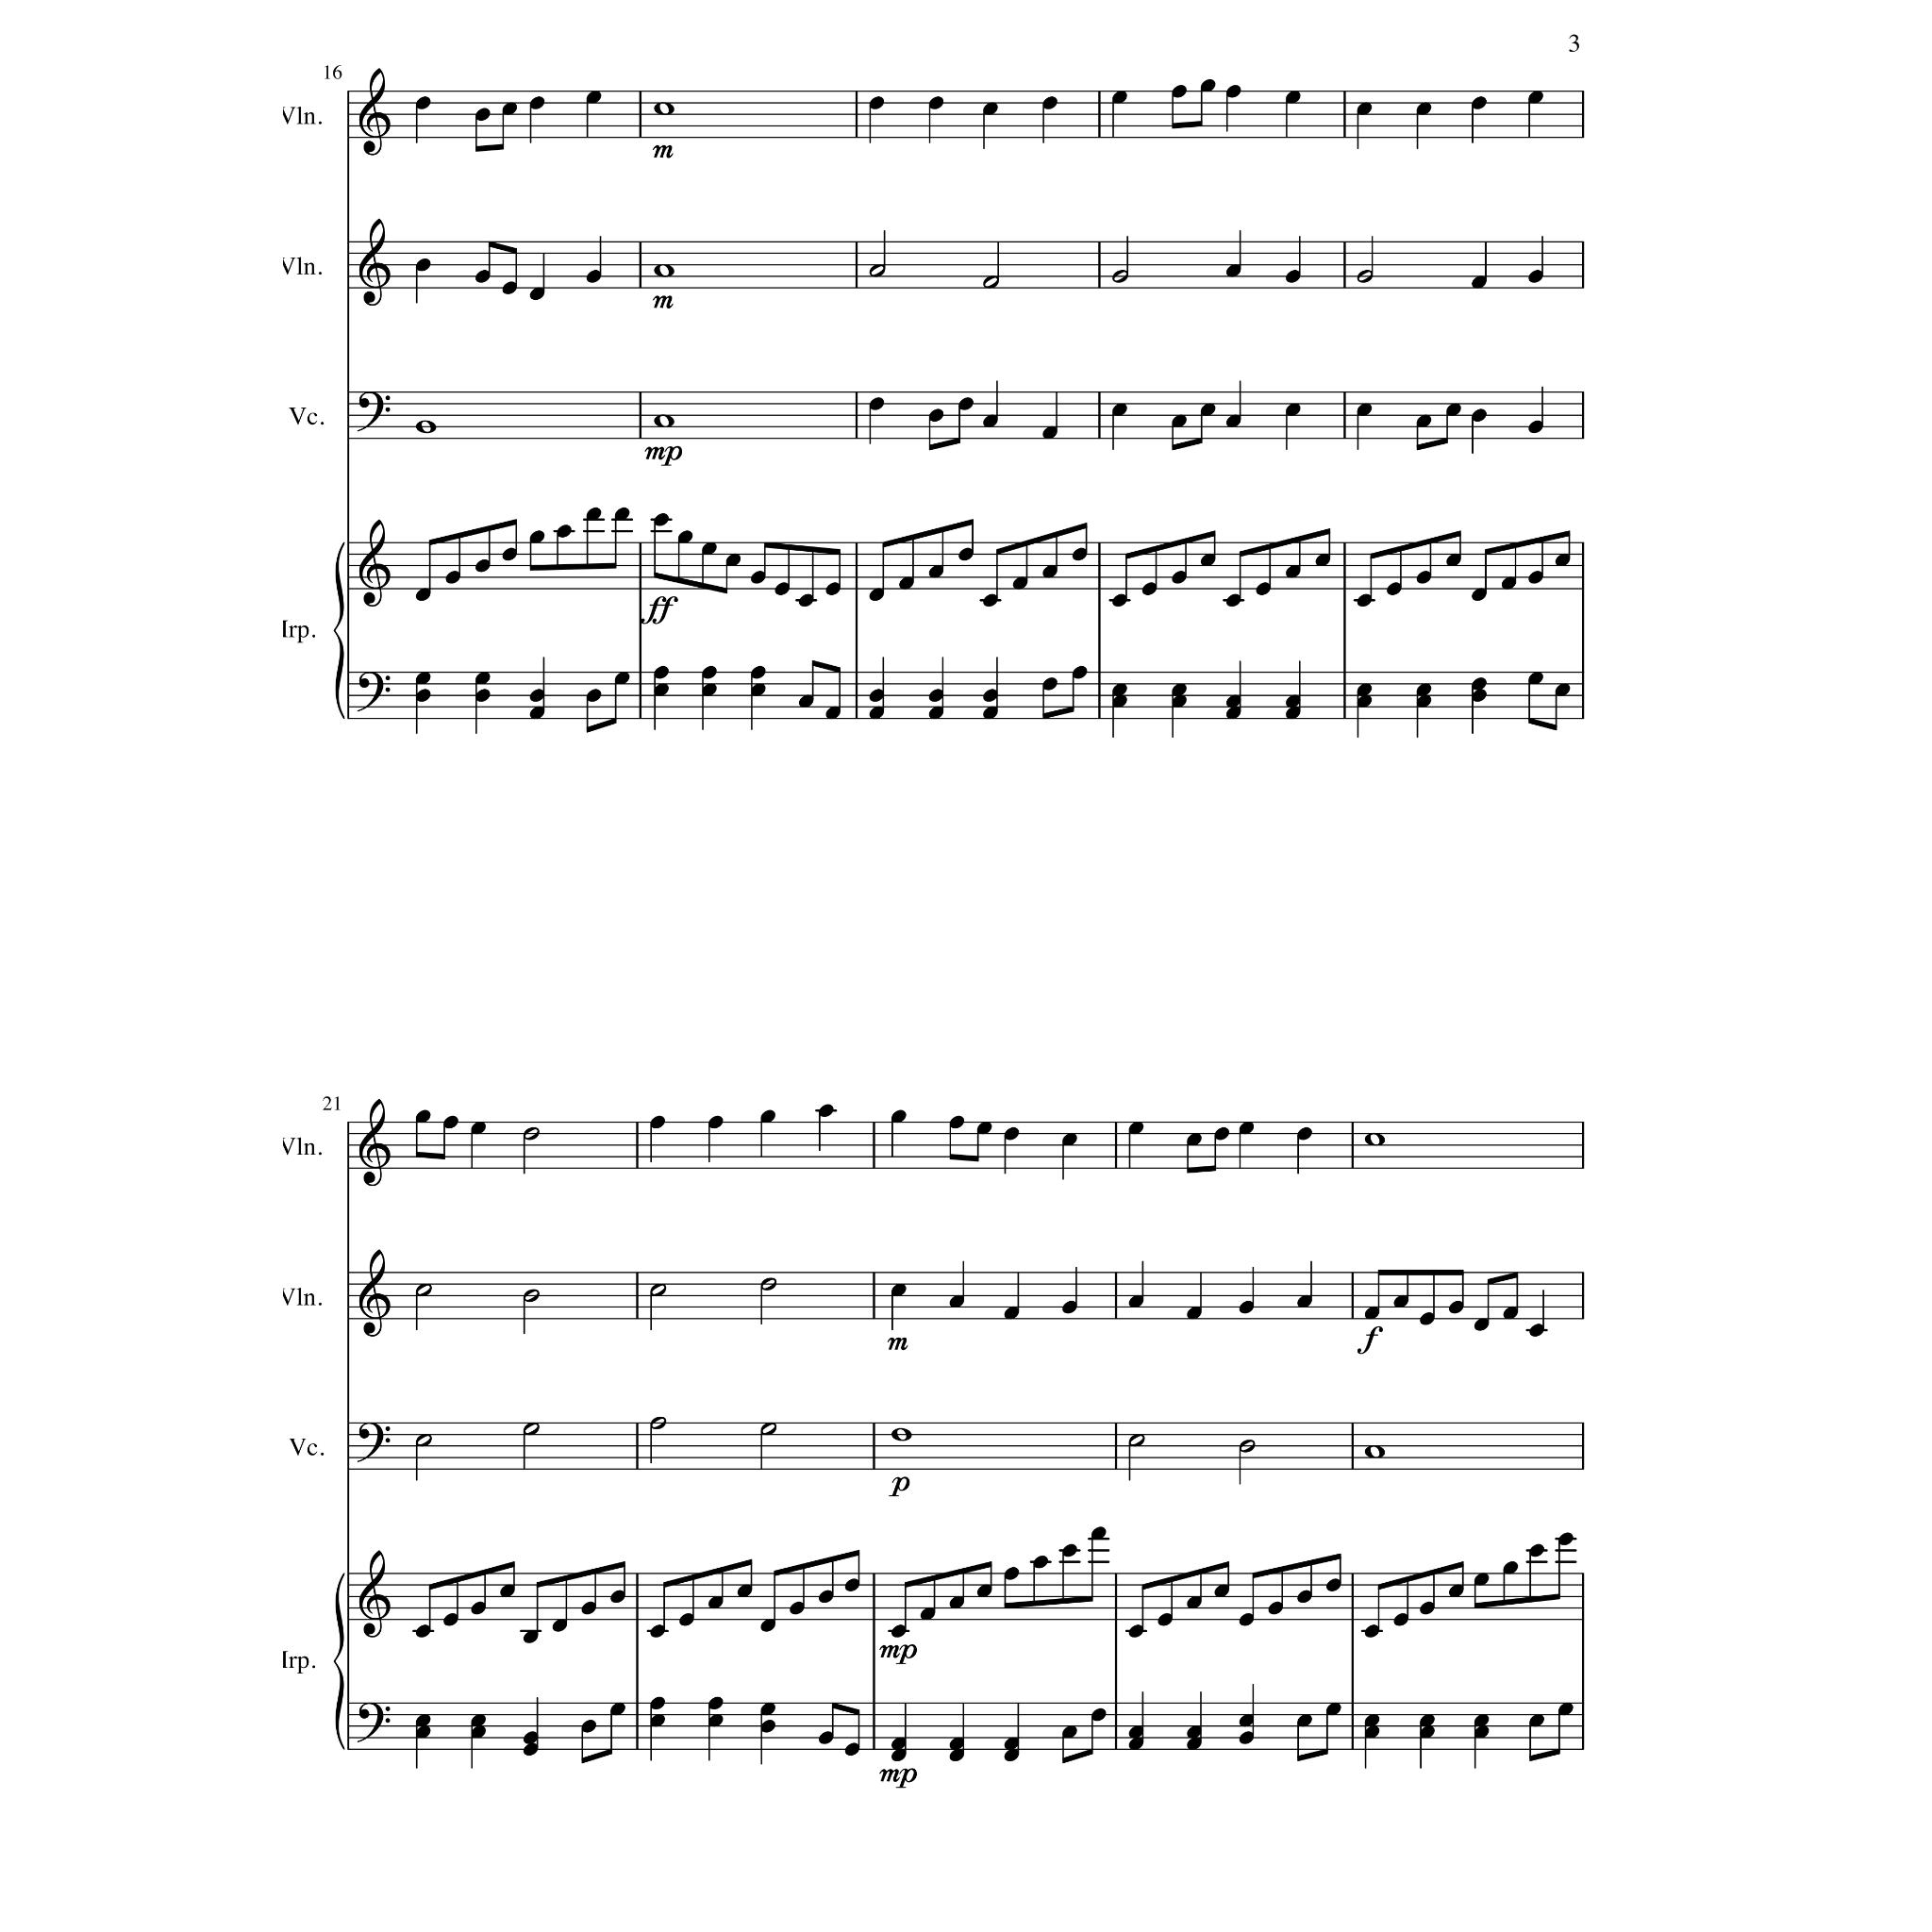brace: (333, 541, 345, 720), (333, 1573, 345, 1750)
fClef: (357, 672, 391, 713), (357, 1702, 391, 1743), (357, 1422, 391, 1463), (357, 393, 391, 432)
gClef: (359, 67, 391, 157), (359, 518, 391, 607), (359, 218, 391, 306), (359, 1550, 391, 1638), (359, 1099, 391, 1187), (359, 1249, 391, 1338)
noteheadBlack: (1284, 706, 1302, 720), (1284, 564, 1302, 579), (1284, 90, 1302, 104), (1284, 269, 1302, 283), (1070, 665, 1088, 679), (1553, 683, 1571, 697), (1355, 103, 1373, 117), (1355, 683, 1373, 697), (701, 683, 718, 697), (701, 665, 718, 679), (1127, 1295, 1145, 1309), (1127, 1624, 1145, 1638), (1127, 1736, 1145, 1750), (1127, 1725, 1145, 1739), (759, 1109, 777, 1123), (759, 1619, 777, 1633), (759, 1702, 777, 1716), (1226, 264, 1242, 278), (1226, 706, 1242, 720), (1200, 80, 1215, 94), (1042, 678, 1058, 692), (1111, 90, 1127, 104), (1111, 683, 1127, 697), (1042, 564, 1058, 579), (1012, 577, 1028, 591), (1171, 683, 1187, 697), (1500, 577, 1516, 591), (1529, 90, 1545, 104), (1529, 269, 1545, 283), (1472, 276, 1488, 290), (1472, 409, 1488, 423), (1472, 690, 1488, 704), (1472, 678, 1488, 692), (1415, 683, 1431, 697), (1415, 103, 1431, 117), (586, 690, 602, 704), (556, 524, 571, 538), (586, 90, 602, 104), (586, 269, 602, 283), (529, 690, 545, 704), (529, 287, 545, 301), (529, 531, 545, 545), (529, 706, 545, 720), (653, 513, 669, 527), (653, 683, 669, 697), (653, 665, 669, 679), (414, 258, 430, 272), (414, 690, 430, 704), (501, 103, 517, 117), (501, 281, 517, 295), (474, 108, 490, 122), (474, 269, 490, 283), (474, 559, 490, 573), (474, 690, 490, 704), (899, 577, 915, 591), (869, 706, 885, 720), (869, 690, 885, 704), (982, 103, 998, 117), (982, 706, 998, 720), (982, 690, 998, 704), (750, 683, 766, 697), (750, 665, 766, 679), (678, 531, 694, 545), (824, 706, 840, 720), (1214, 1127, 1230, 1141), (1214, 1583, 1230, 1598), (1187, 1132, 1203, 1146), (1187, 1306, 1203, 1320), (1187, 1596, 1203, 1610), (1187, 1736, 1203, 1750), (1187, 1725, 1203, 1739), (1297, 1127, 1313, 1141), (1297, 1295, 1313, 1309), (1297, 1591, 1313, 1605), (1267, 1601, 1283, 1615), (1238, 1730, 1254, 1744), (1238, 1300, 1254, 1315), (1090, 1707, 1106, 1721), (1033, 1555, 1049, 1569), (1062, 1132, 1077, 1146), (1062, 1300, 1077, 1315), (1062, 1725, 1077, 1739), (1529, 1323, 1545, 1338), (1559, 1702, 1575, 1716), (1474, 1318, 1490, 1332), (1474, 1725, 1490, 1739), (1502, 1306, 1518, 1320), (1502, 1560, 1518, 1575), (1325, 1578, 1341, 1592), (1325, 1702, 1341, 1716), (1364, 1306, 1380, 1320), (1364, 1624, 1380, 1638), (1364, 1725, 1380, 1739), (1447, 1300, 1463, 1315), (1447, 1583, 1463, 1598), (1392, 1295, 1408, 1309), (1419, 1601, 1435, 1615), (1419, 1725, 1435, 1739), (580, 1601, 596, 1615), (552, 1619, 568, 1633), (610, 1591, 626, 1605), (610, 1702, 626, 1716), (522, 1629, 538, 1644), (522, 1730, 538, 1744), (649, 1624, 665, 1638), (649, 1697, 665, 1711), (414, 1109, 430, 1123), (414, 1624, 430, 1638), (414, 1725, 430, 1739), (471, 1601, 487, 1615), (471, 1725, 487, 1739), (499, 1583, 515, 1598), (890, 1736, 906, 1750), (890, 1109, 906, 1123), (890, 1624, 906, 1638), (890, 1748, 906, 1762), (977, 1583, 993, 1598), (1003, 1127, 1019, 1141), (1003, 1306, 1019, 1320), (1003, 1748, 1019, 1762), (1003, 1736, 1019, 1750), (948, 1596, 964, 1610), (948, 1295, 964, 1309), (948, 1748, 964, 1762), (948, 1736, 964, 1750), (708, 1596, 724, 1610), (708, 1697, 724, 1711), (736, 1583, 752, 1598), (817, 1104, 833, 1118), (817, 1591, 833, 1605), (817, 1730, 833, 1744), (844, 1578, 860, 1592), (789, 1601, 805, 1615), (1284, 695, 1302, 708), (1284, 403, 1302, 416), (1070, 548, 1088, 561), (1553, 554, 1571, 566), (1355, 403, 1373, 416), (1355, 594, 1373, 607), (1355, 695, 1373, 708), (701, 543, 718, 556), (773, 582, 791, 594), (1127, 1122, 1145, 1134), (759, 1720, 777, 1732), (929, 409, 943, 423), (929, 564, 943, 579), (929, 706, 943, 720), (929, 690, 943, 704), (1226, 416, 1242, 428), (1226, 85, 1242, 97), (1226, 594, 1242, 607), (1226, 695, 1242, 708), (1200, 403, 1215, 416), (1200, 554, 1215, 566), (1254, 582, 1270, 594), (1111, 403, 1127, 416), (1111, 594, 1127, 607), (1111, 695, 1127, 708), (1042, 426, 1058, 439), (1141, 582, 1157, 594), (1171, 85, 1187, 97), (1171, 416, 1187, 428), (1171, 571, 1187, 584), (1171, 695, 1187, 708), (1042, 97, 1058, 110), (1529, 672, 1545, 685), (1529, 571, 1545, 584), (1529, 421, 1545, 433), (1315, 554, 1330, 566), (1445, 403, 1461, 416), (1445, 554, 1461, 566), (1472, 97, 1488, 110), (1472, 589, 1488, 602), (1387, 582, 1403, 594), (1415, 416, 1431, 428), (1415, 571, 1431, 584), (1415, 695, 1431, 708), (586, 508, 602, 520), (529, 97, 545, 110), (614, 508, 630, 520), (614, 672, 630, 685), (414, 97, 430, 110), (414, 589, 430, 602), (414, 672, 430, 685), (501, 548, 517, 561), (444, 571, 460, 584), (474, 672, 490, 685), (869, 589, 885, 602), (982, 416, 998, 428), (982, 594, 998, 607), (725, 554, 741, 566), (750, 571, 766, 584), (869, 398, 885, 410), (824, 582, 840, 594), (869, 97, 885, 110), (798, 594, 814, 607), (798, 695, 814, 708), (1238, 1122, 1254, 1134), (1297, 1714, 1313, 1727), (1238, 1614, 1254, 1626), (1238, 1714, 1254, 1727), (1090, 1527, 1106, 1539), (1062, 1545, 1077, 1557), (1157, 1614, 1173, 1626), (1529, 1545, 1545, 1557), (1529, 1714, 1545, 1727), (1559, 1532, 1575, 1545), (1474, 1573, 1490, 1585), (1474, 1714, 1490, 1727), (1364, 1714, 1380, 1727), (1419, 1714, 1435, 1727), (1392, 1614, 1408, 1626), (1419, 1313, 1435, 1325), (580, 1720, 596, 1732), (522, 1743, 538, 1755), (679, 1614, 695, 1626), (649, 1116, 665, 1129), (649, 1714, 665, 1727), (414, 1714, 430, 1727), (471, 1122, 487, 1134), (471, 1714, 487, 1727), (442, 1116, 458, 1129), (442, 1614, 458, 1626), (890, 1284, 906, 1297), (977, 1122, 993, 1134), (1003, 1568, 1019, 1580), (920, 1608, 936, 1621), (948, 1116, 964, 1129), (708, 1116, 724, 1129), (708, 1714, 724, 1727), (844, 1743, 860, 1755), (929, 97, 943, 110), (959, 398, 973, 410), (959, 548, 973, 561)
noteheadHalf: (1111, 269, 1129, 283), (982, 276, 1000, 290), (869, 264, 886, 278), (1238, 1438, 1256, 1453), (522, 1290, 540, 1304), (522, 1422, 540, 1437), (522, 1127, 540, 1141), (1357, 269, 1373, 283), (1129, 1433, 1145, 1447), (416, 1433, 432, 1447), (761, 1277, 777, 1292), (761, 1422, 777, 1437), (649, 1284, 665, 1297), (649, 1417, 665, 1430), (416, 1284, 432, 1297)
noteheadWhole: (653, 103, 676, 117), (653, 264, 676, 278), (414, 421, 437, 435), (1364, 1132, 1385, 1146), (890, 1428, 911, 1442), (653, 416, 676, 428), (1364, 1445, 1385, 1458)
